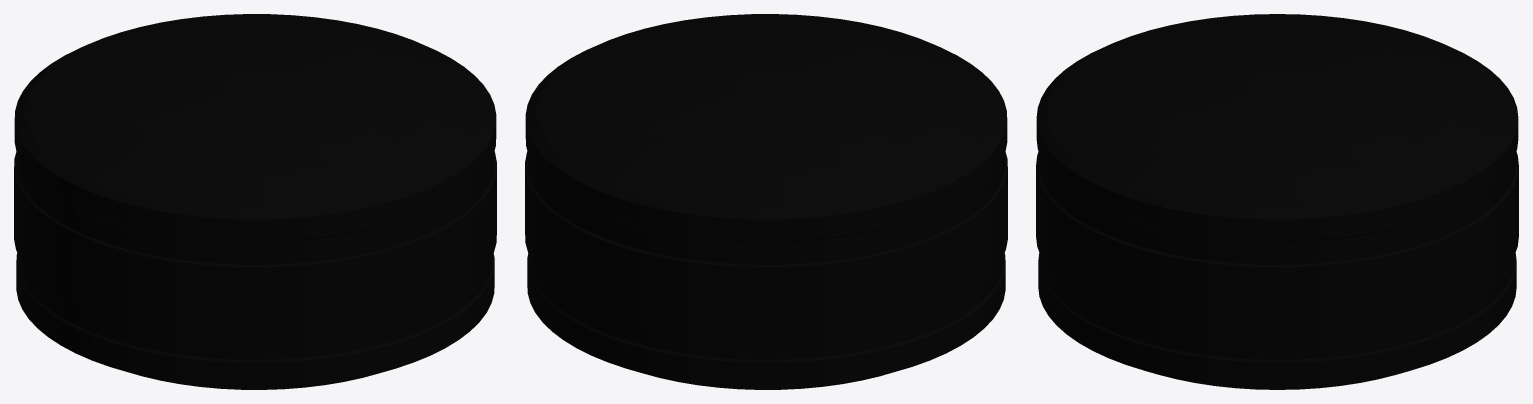
File: shapa.glb
The picture shows the model from 3 angles, left to right: view 1: azimuth 30°, elevation 25°; view 2: azimuth 150°, elevation 25°; view 3: azimuth 270°, elevation 25°; orthographic projection.
Parts seen in each view (by area): view 1: Cylinder; view 2: Cylinder; view 3: Cylinder.
Boxes of the visible parts, x1=… form: Cylinder: x1=14, y1=14, x2=496, y2=389; Cylinder: x1=525, y1=14, x2=1007, y2=389; Cylinder: x1=1036, y1=14, x2=1518, y2=389.
Size of the model in its own units: 0.5248 by 0.2629 by 0.5248.
3 materials, 3 textured.
